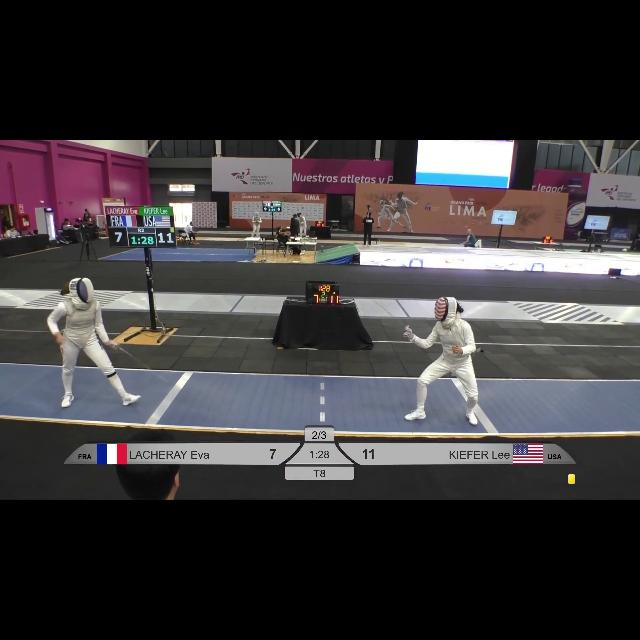blade: (114, 342, 178, 391), (352, 282, 412, 334)
